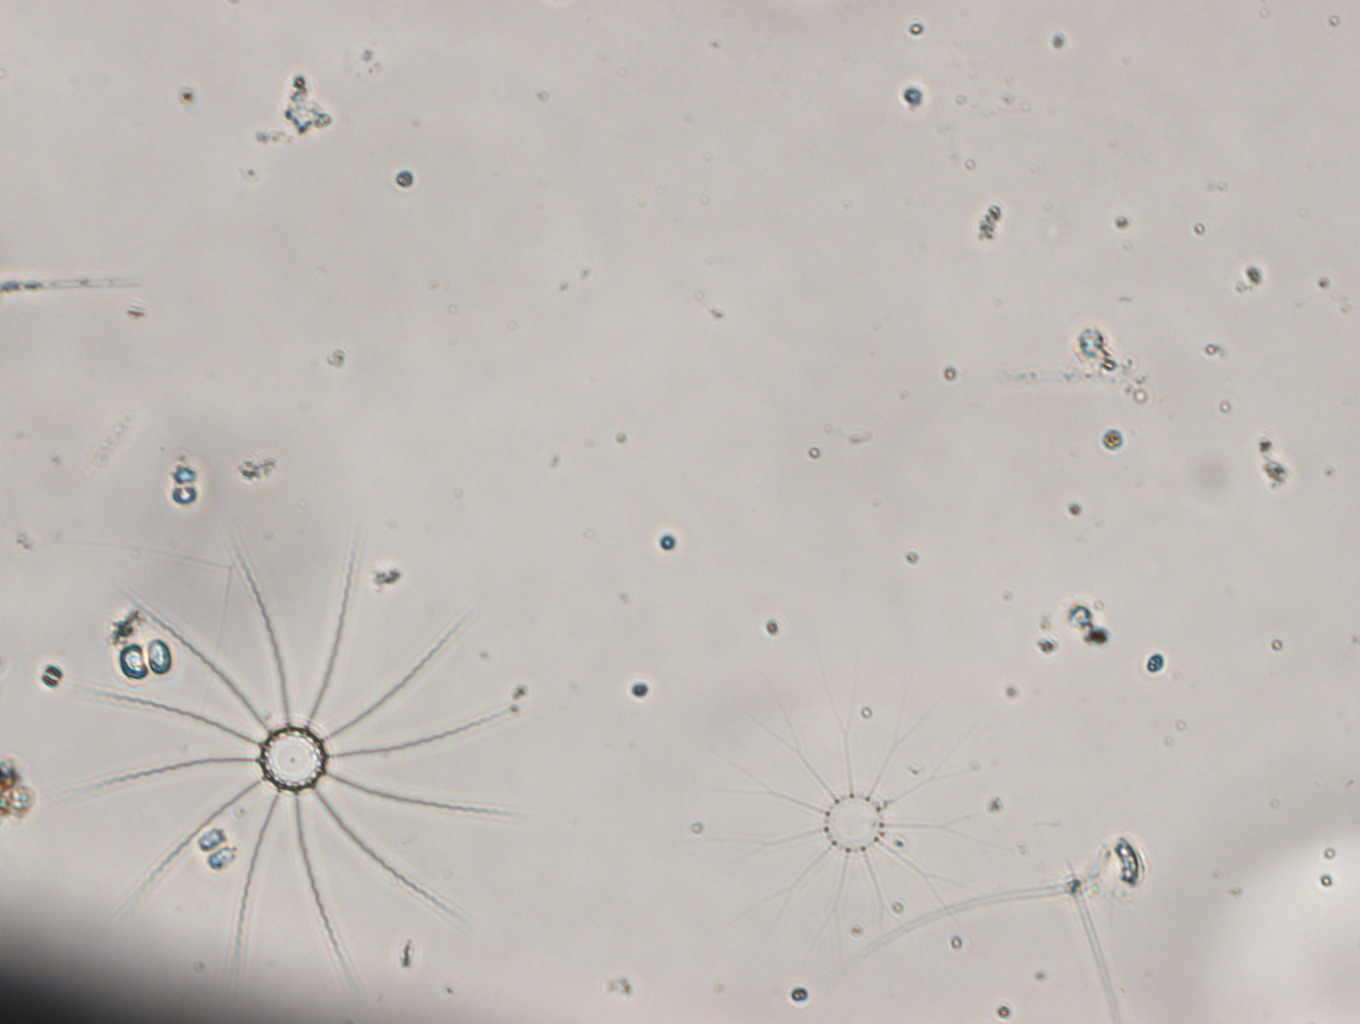bacteriastrum: (48, 529, 512, 984), (714, 662, 998, 965)
